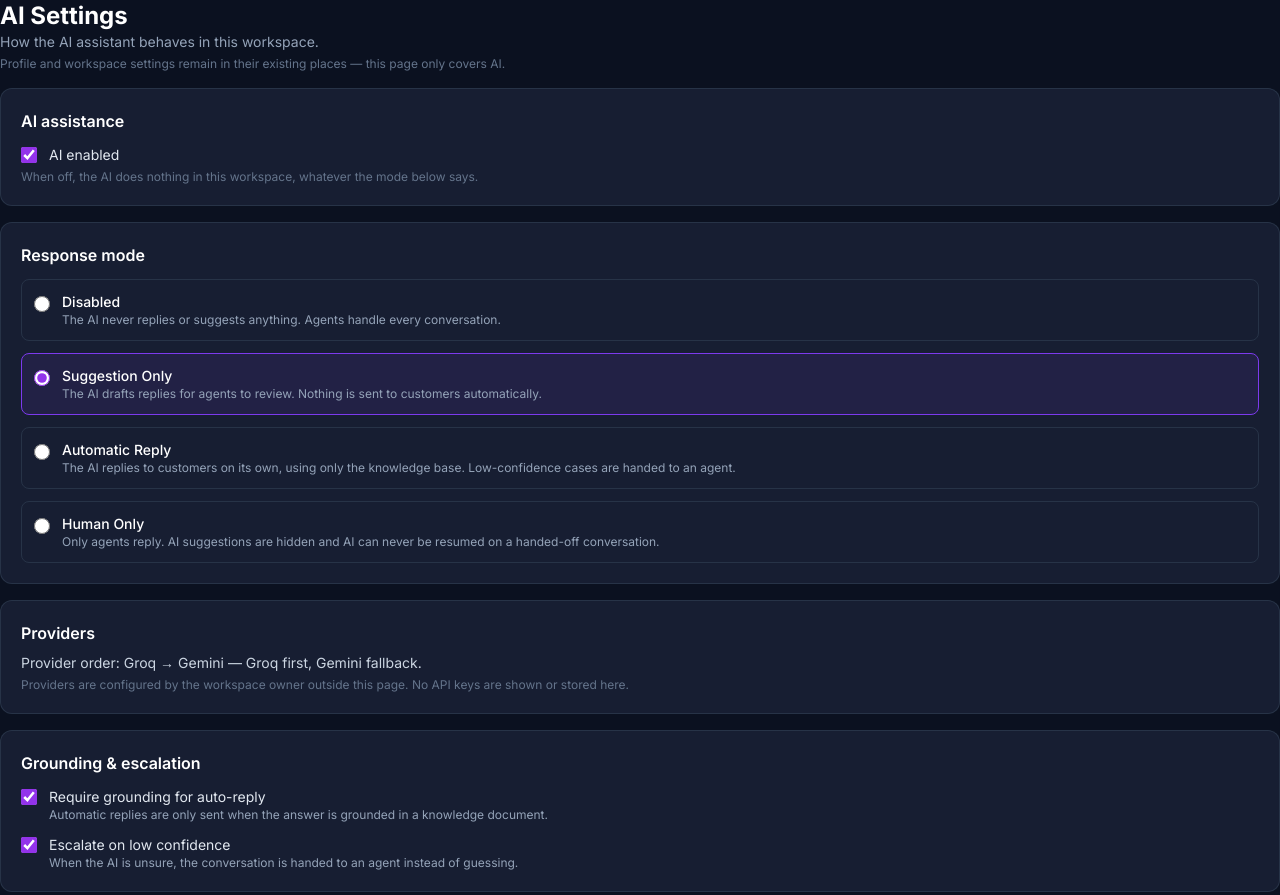
Test: AI settings page › shows the automatic-reply warning when Automatic Reply is selected
Click the text "Automatic Reply" at [117, 450], box x1=62 y1=441 x2=171 y2=458
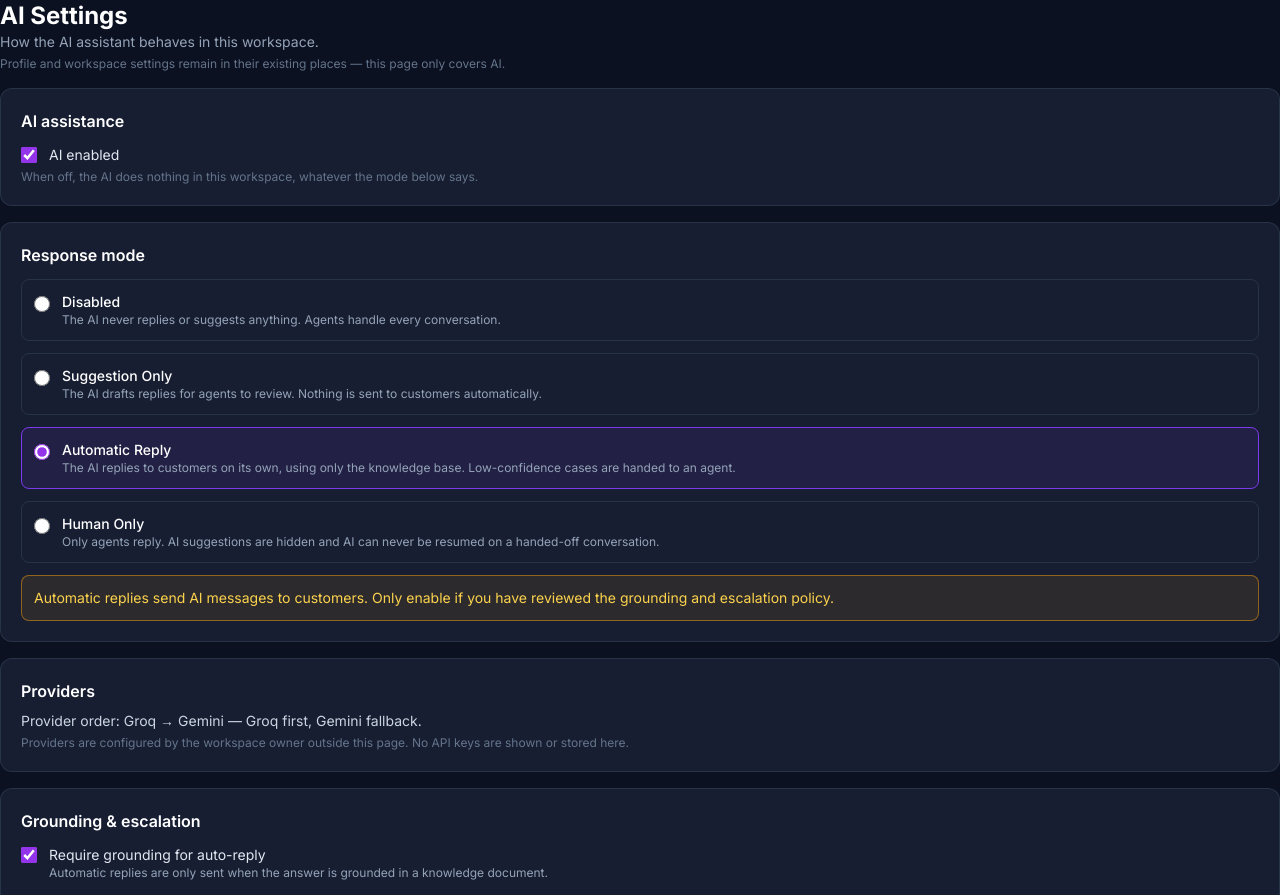
Result: the text "Automatic replies send AI messages to customers" is shown at x1=34 y1=589 x2=834 y2=606
